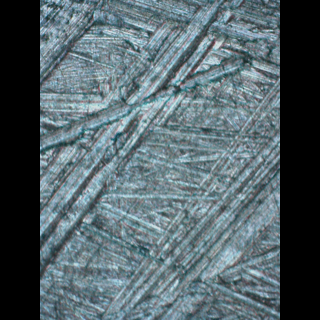d: (40, 0, 223, 295), (96, 80, 280, 319), (40, 0, 110, 87)
